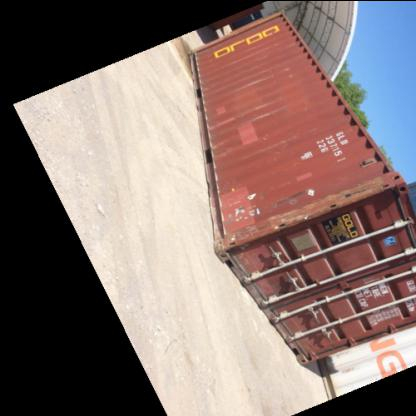Damage: (221, 185, 282, 248), (314, 180, 391, 209), (226, 44, 276, 66), (254, 131, 302, 152), (249, 98, 286, 124), (228, 74, 288, 90), (207, 103, 238, 129), (274, 184, 312, 205), (284, 207, 319, 228), (211, 138, 232, 160), (278, 62, 296, 76)
